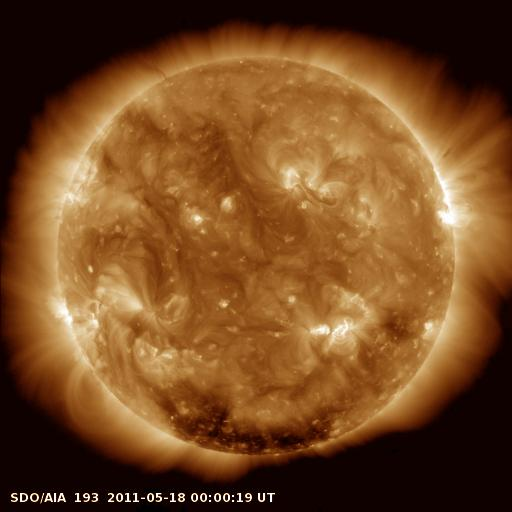coronal_hole: (145, 378, 348, 460)
